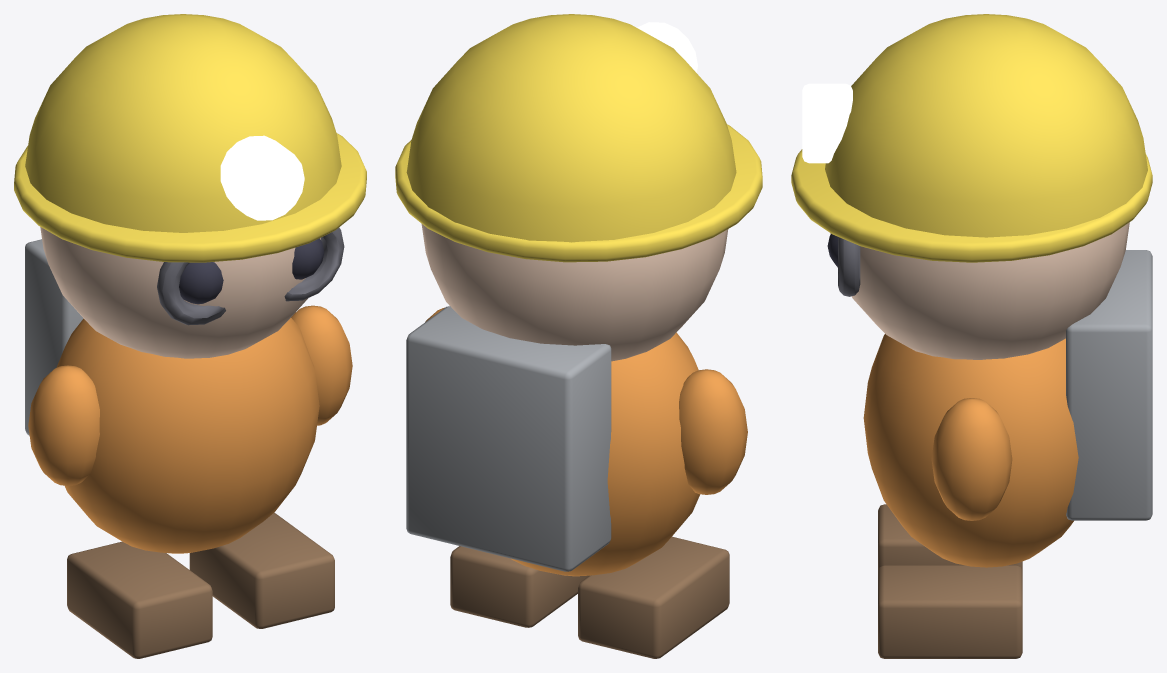
Rendered from hero.glb.
3 views of the same model, side by side, from view 1: azimuth 30°, elevation 25°; view 2: azimuth 150°, elevation 25°; view 3: azimuth 270°, elevation 25° (orthographic). The views are drawn at different scales.
Visible parts, largest first — view 1: hero; view 2: hero; view 3: hero.
Part boxes in pixels (<box>): hero: <box>14,14,366,658</box>; hero: <box>395,14,762,658</box>; hero: <box>791,14,1152,658</box>.
Bounding box in the file's own units: 0.512 × 0.89 × 0.5.
